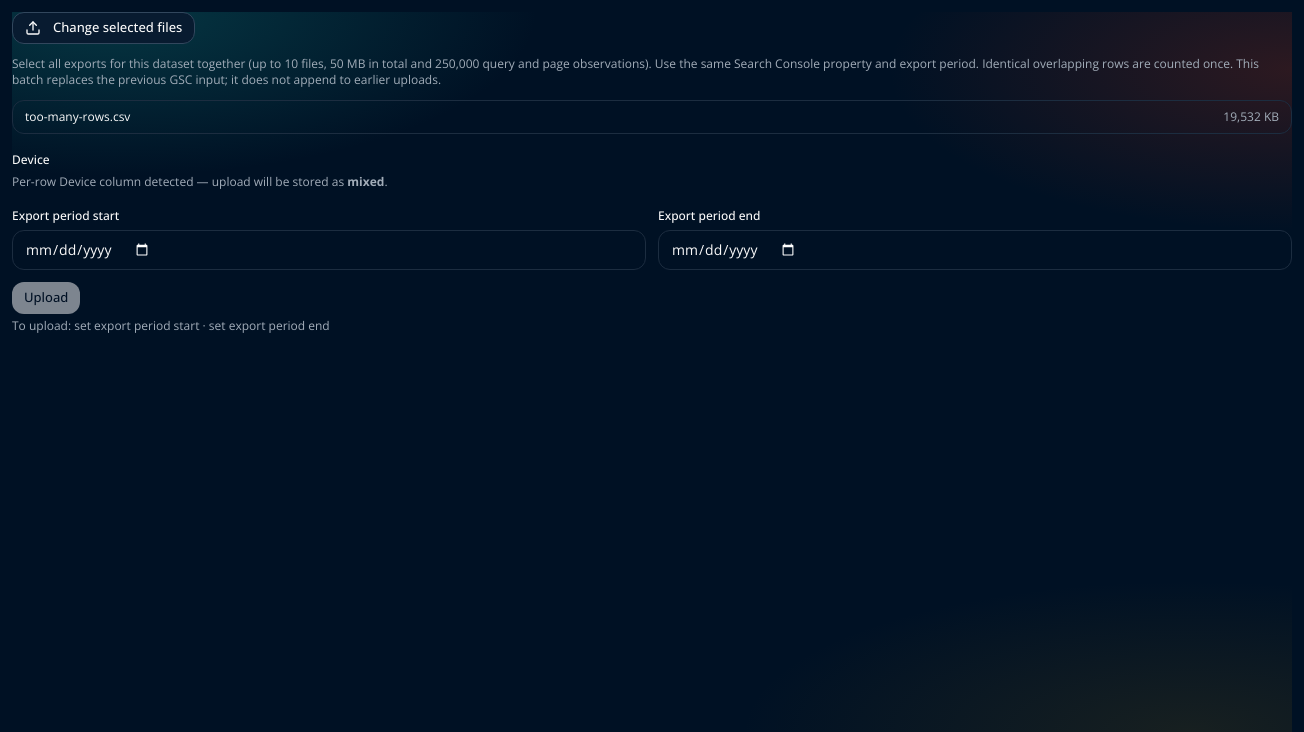
it: GSC upload selection › shows the server's actual observation count and supported maximum
Earlier steps of the test are not shown.
Check: the text "too-many-rows.csv" is shown, box x1=25 y1=109 x2=130 y2=125
In the date field labelled "Export period start": (329, 250) x1=12 y1=230 x2=646 y2=270, type "2025-09-01"
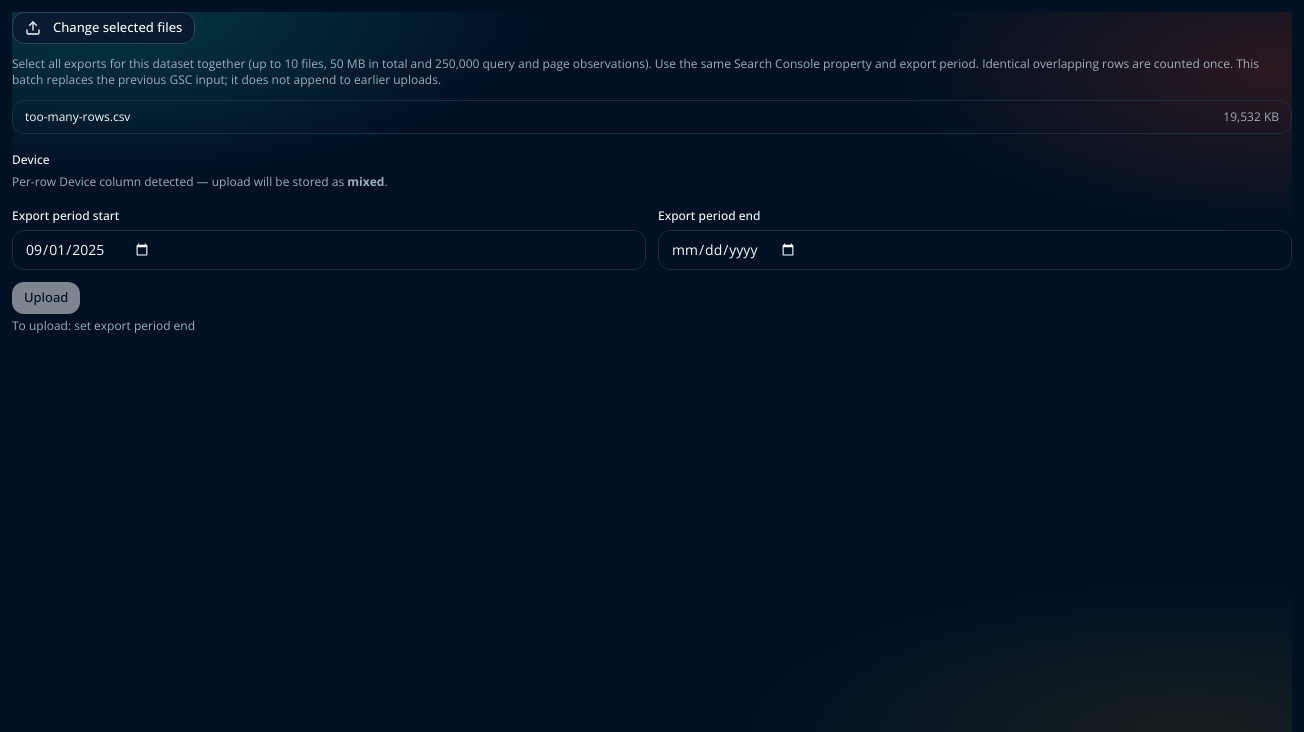
In the date field labelled "Export period end": (975, 250) x1=658 y1=230 x2=1292 y2=270, type "2026-08-31"
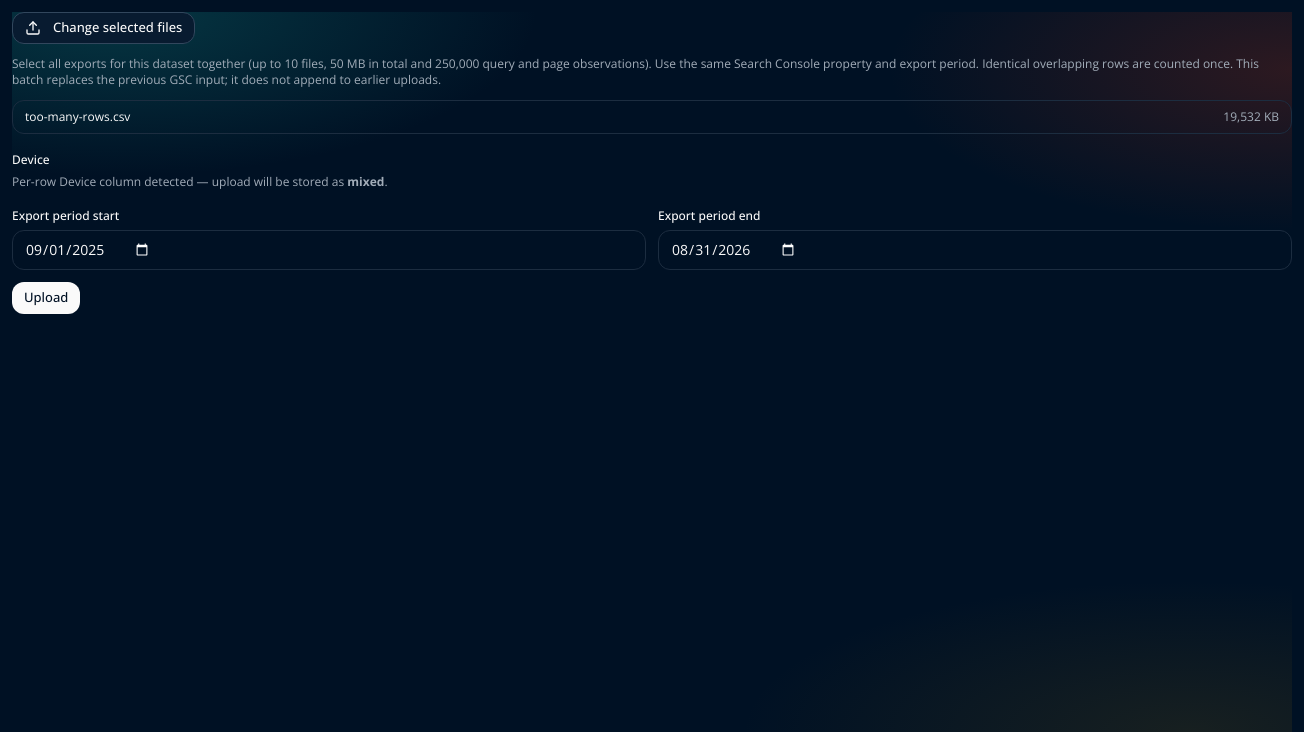
Check: the button "Upload" is enabled
Click the button "Upload": (46, 298) x1=12 y1=282 x2=80 y2=314
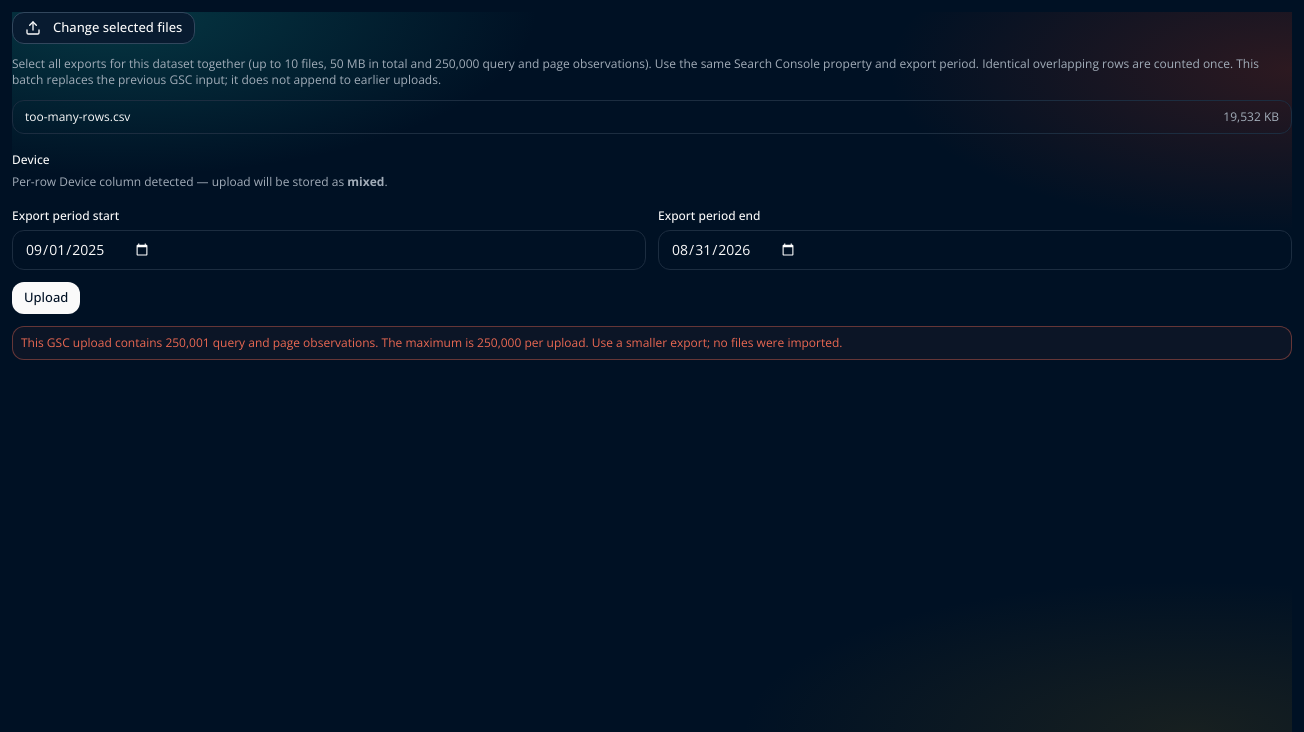
Check: the text "This GSC upload contains 250,001 query and page observations. The maximum is 250,000 per upload. Use a smaller export; n" is shown, box x1=21 y1=334 x2=842 y2=351
